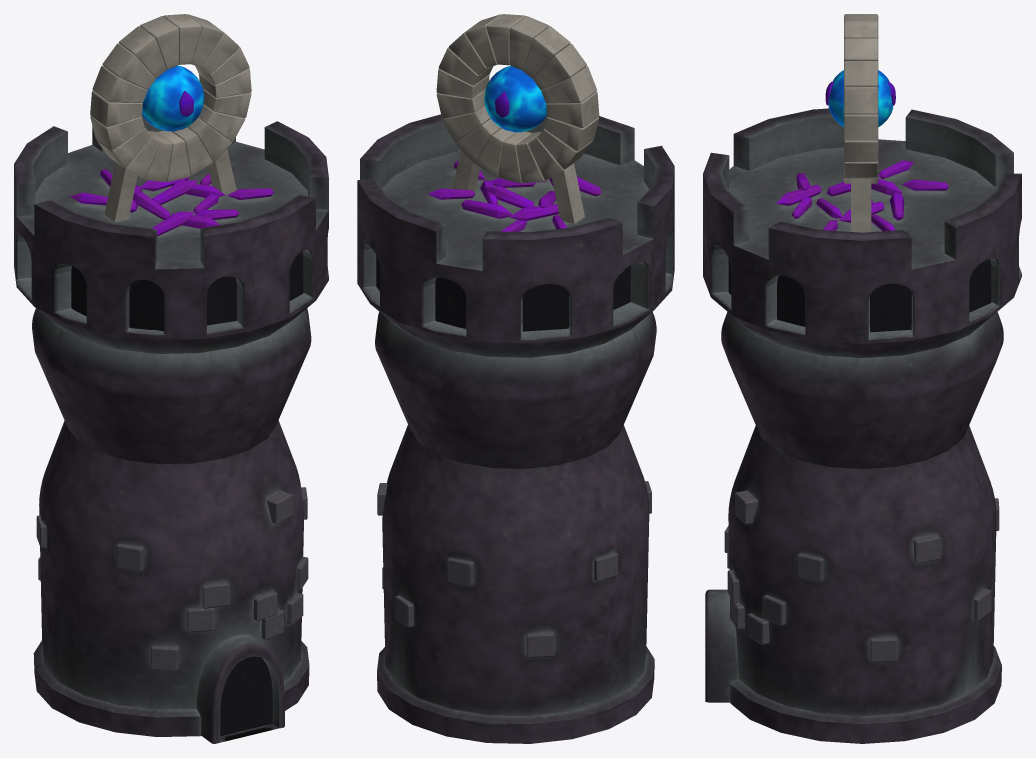
The model's file is Mage_Tower_lvl_2_op2.fbx.
3 renders of one model, left to right at view 1: azimuth 30°, elevation 25°; view 2: azimuth 150°, elevation 25°; view 3: azimuth 270°, elevation 25°, orthographic.
Visible parts, largest first — view 1: Bottom Tower Piece_Baked; view 2: Bottom Tower Piece_Baked; view 3: Bottom Tower Piece_Baked.
Boxes of the visible parts, x1,y1,x2,y2 form: Bottom Tower Piece_Baked: [14, 14, 328, 743]; Bottom Tower Piece_Baked: [357, 14, 674, 743]; Bottom Tower Piece_Baked: [703, 14, 1021, 743].
Bounding box in the file's own units: 97.11 × 223 × 97.11.
Materials: 1 (1 with a texture image).
